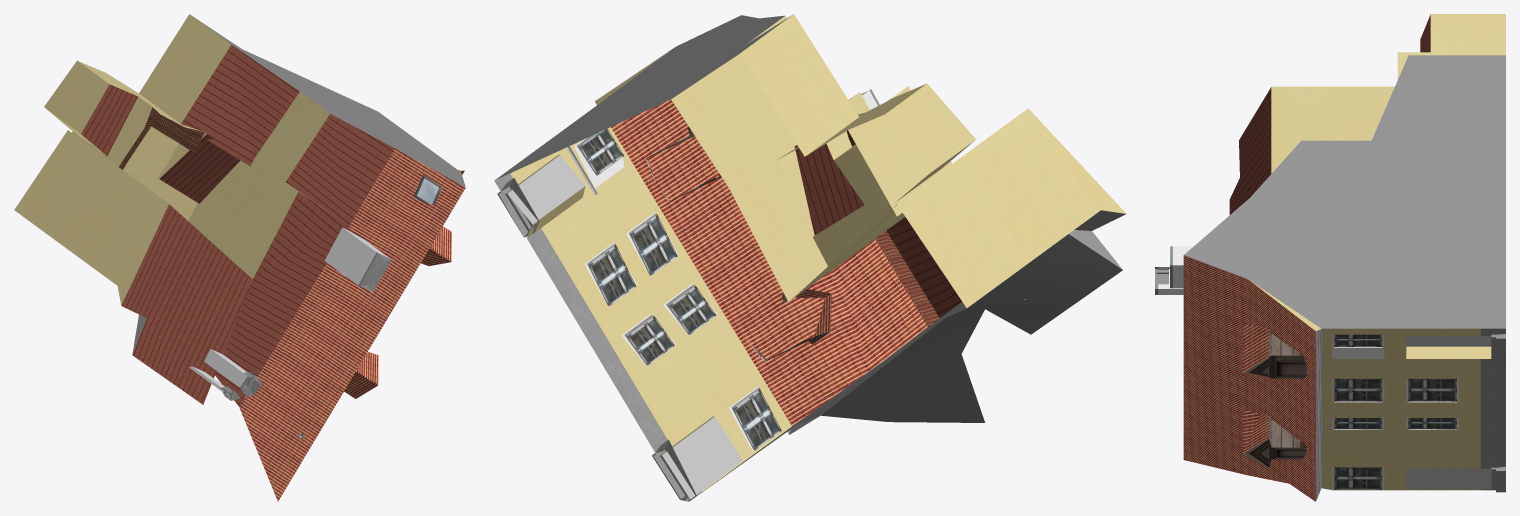
The model's file is Lai_35-origo.obj.
3 renders of one model, left to right at view 1: azimuth 30°, elevation 25°; view 2: azimuth 150°, elevation 25°; view 3: azimuth 270°, elevation 25°, orthographic. The views are drawn at different scales.
Visible parts, largest first — view 1: Lai_35; view 2: Lai_35; view 3: Lai_35.
Part boxes in pixels (x1,y1,x2,y2): Lai_35: (14,14,465,501); Lai_35: (494,14,1126,501); Lai_35: (1155,14,1505,501).
Size of the model in its own units: 20.56 by 19.5 by 14.31.
